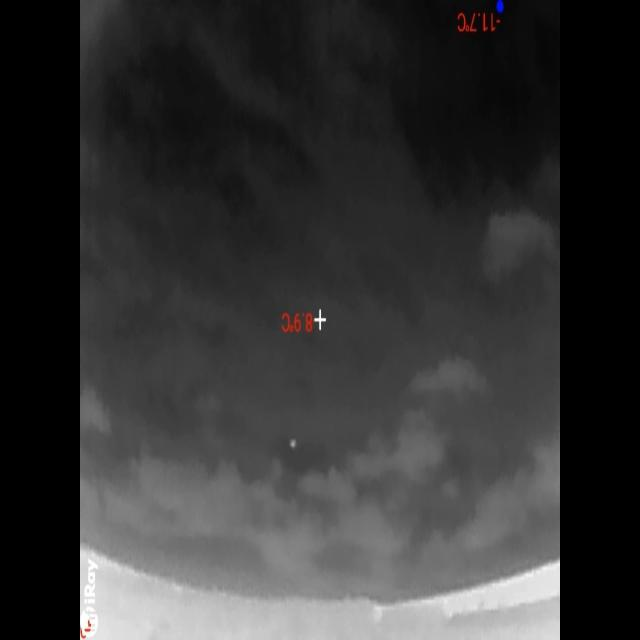drone: (288, 437, 297, 451)
